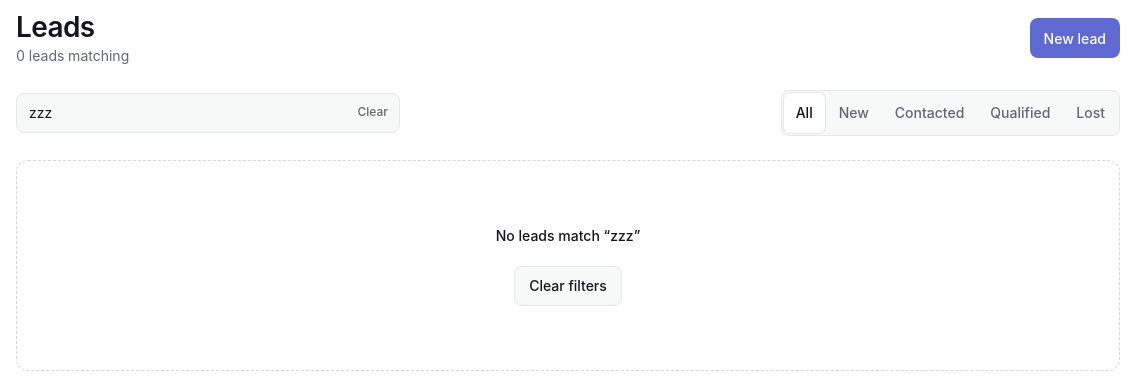
Test case: App › shows a no-results state whose button clears the filters
Check: the text "No leads match “zzz”" is shown, box [496,225,640,246]
Click the button "Clear filters": (568, 286) [514,266,622,306]
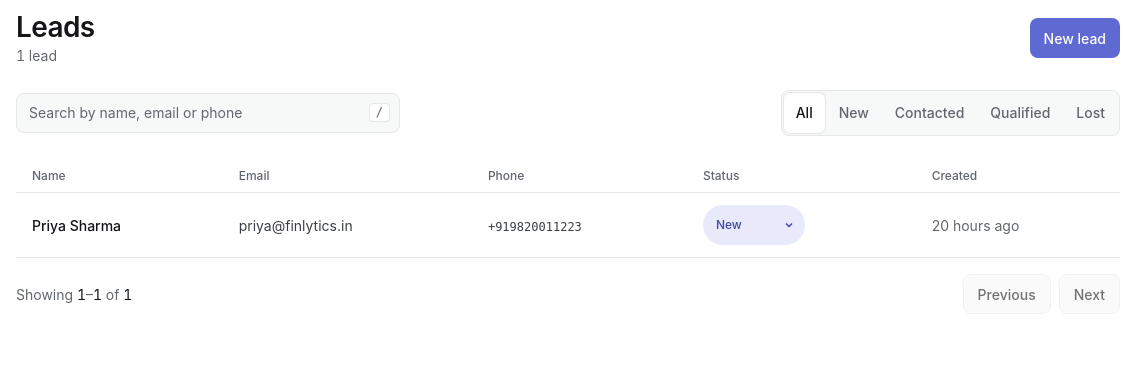
Check: the cell "Priya Sharma" is shown, box [16,193,223,258]
